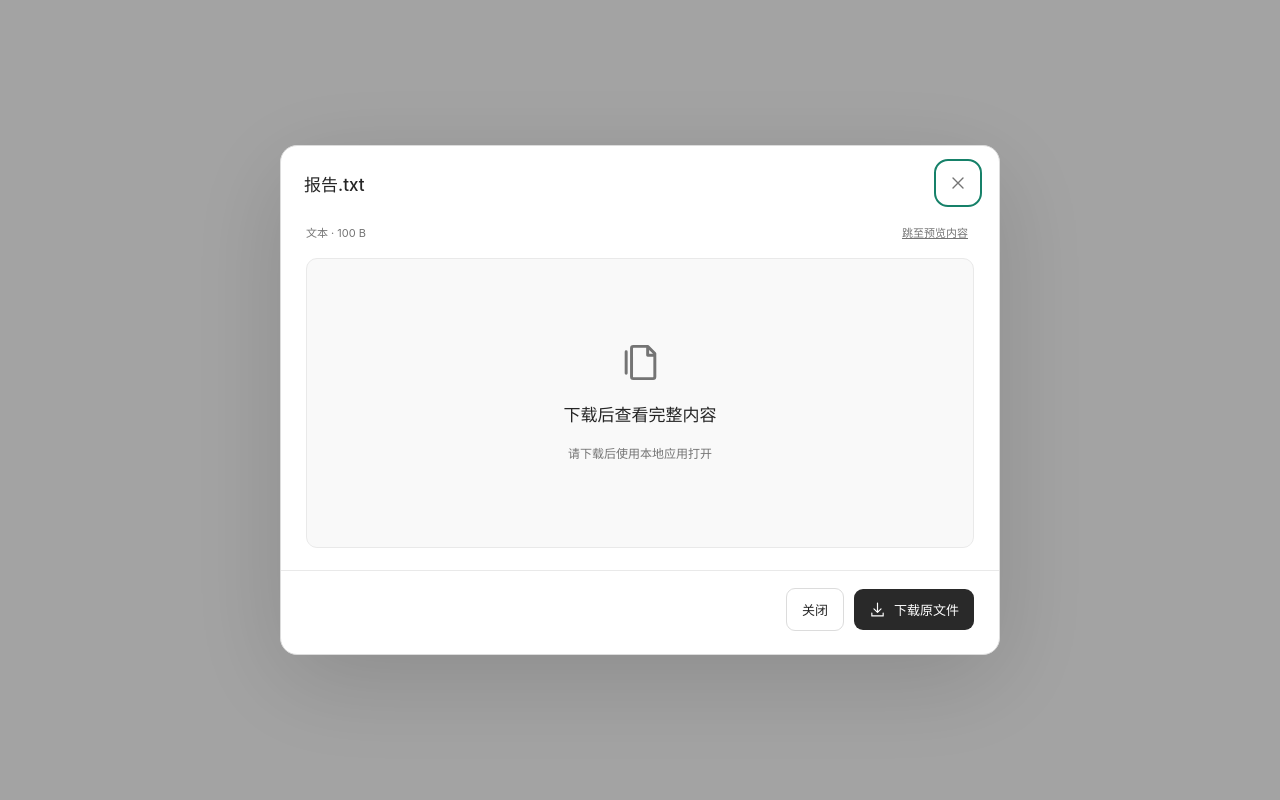
预览对话框 › 不支持格式可下载，提示只说发起请求而不冒充下载完成
Step 1. Click the button "下载原文件" → click(914, 610), box [854, 589, 974, 630]
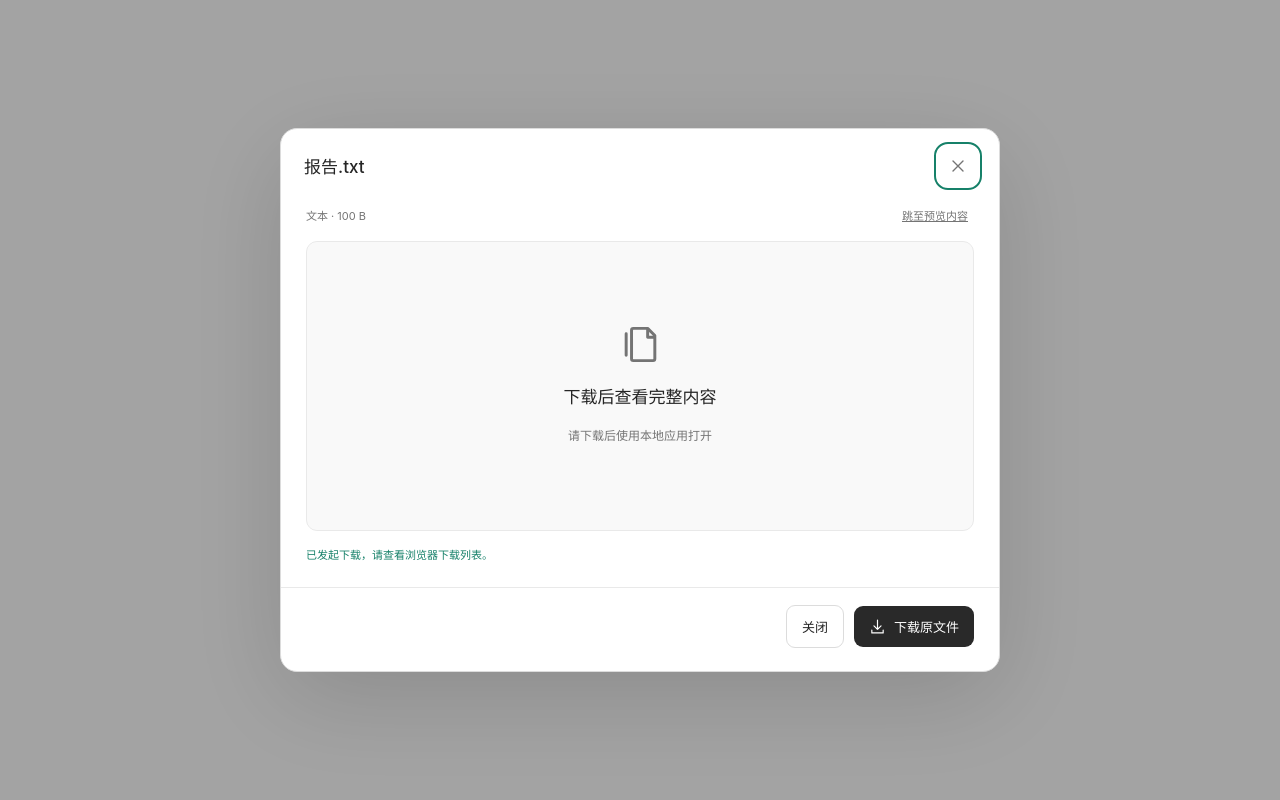
Expected: the message "已发起下载，请查看浏览器下载列表。" is shown, [306, 548, 493, 562]
